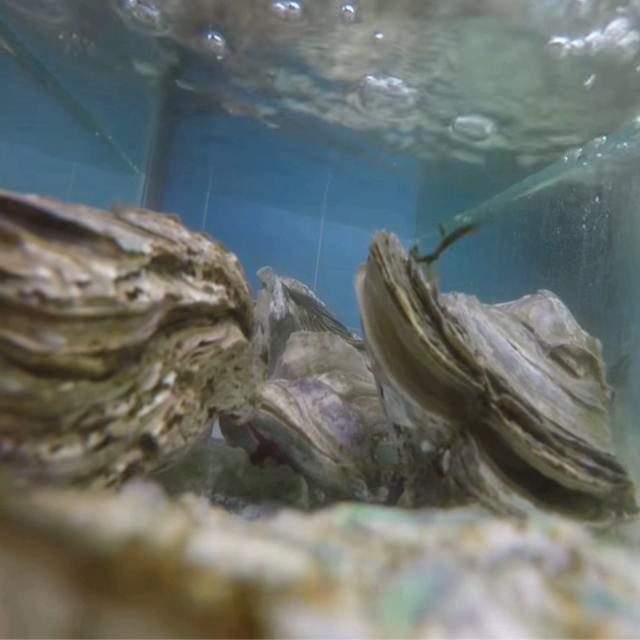Oyster-Closed: (0, 189, 257, 516), (248, 332, 413, 509)
Oyster-Indeterminate: (0, 478, 640, 640), (254, 266, 370, 383)
Oyster-Open: (357, 230, 640, 540)
